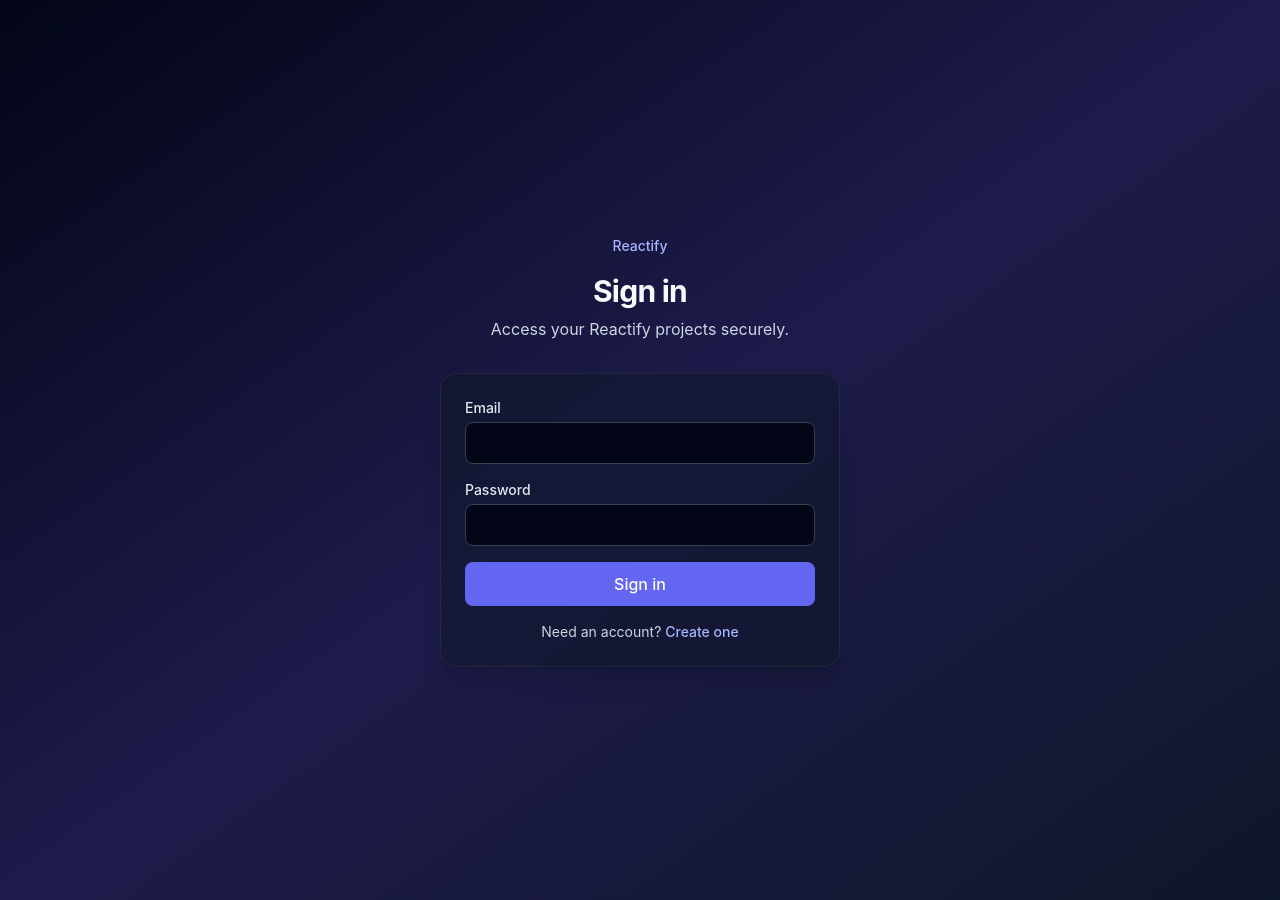
App sign-in redirect flow › does not let a stale unauthenticated session restore clear a completed sign-in
Expected: the heading "Sign in" is shown, [593,273,687,309]
Step 1. Type "user@example.com" into the field labelled "Email" → (640,443), box [465,422,815,464]
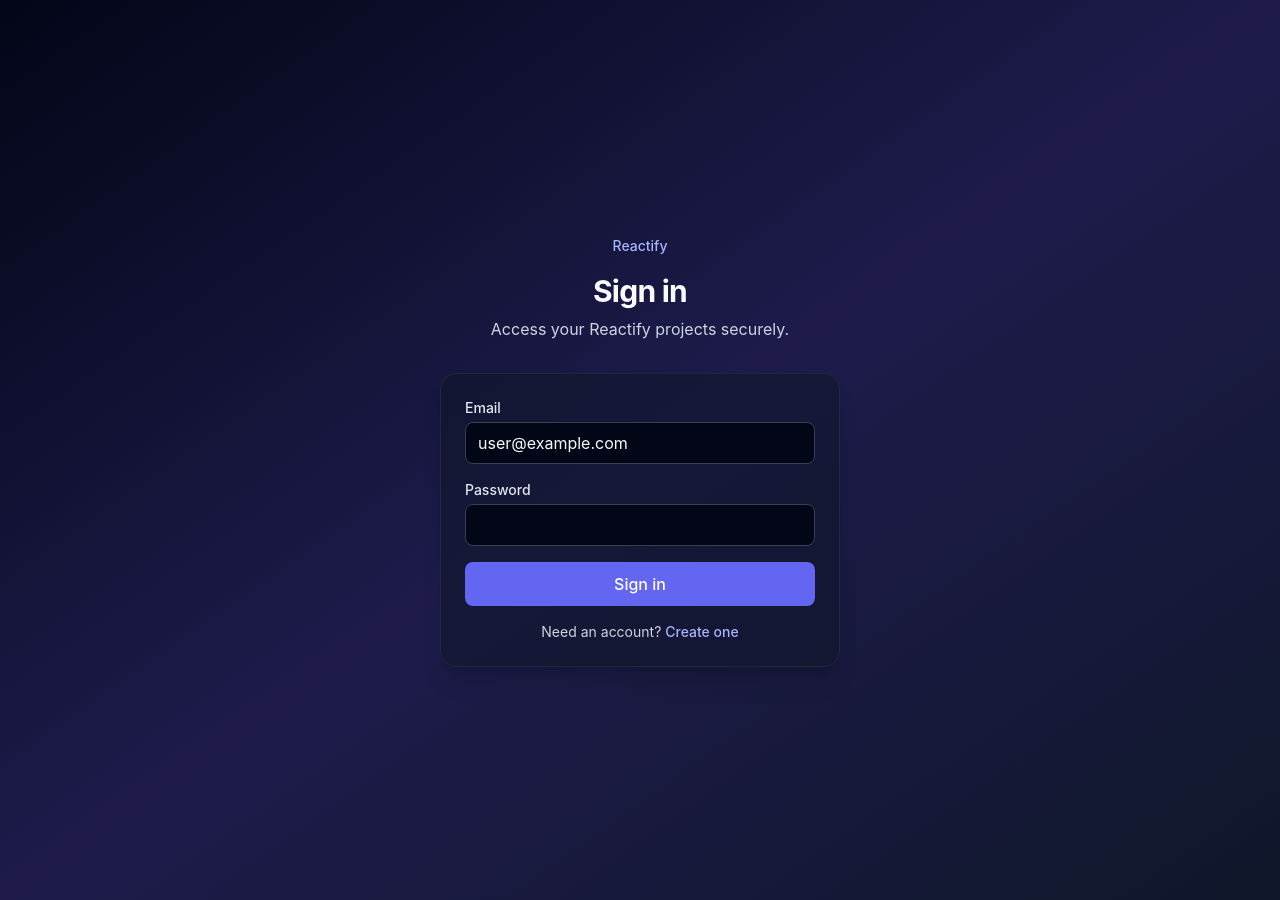
Step 2. Type "secure-password-123" into the password field labelled "Password" → (640,525), box [465,504,815,546]
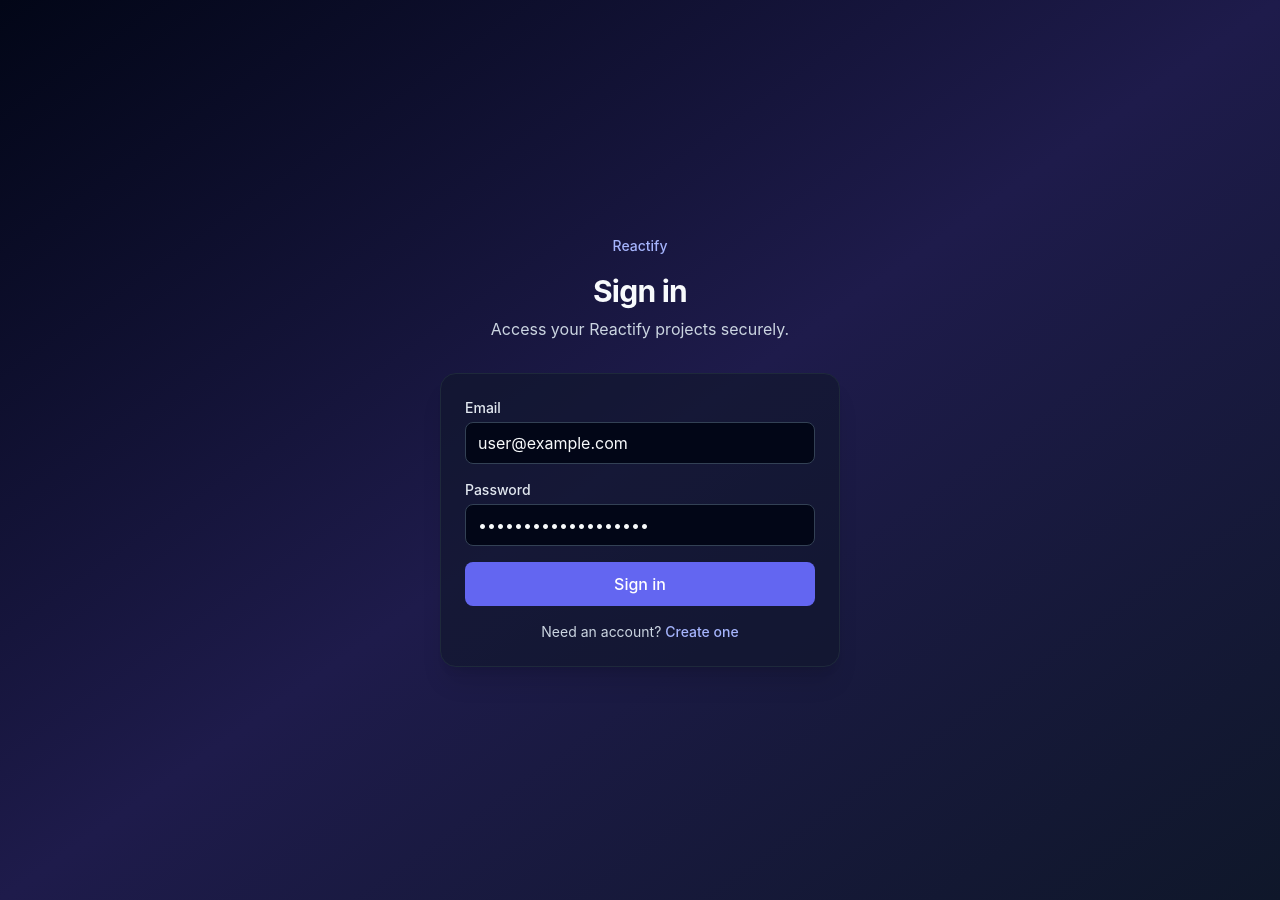
Step 3. Click the button "Sign in" → (640,584), box [465,562,815,606]
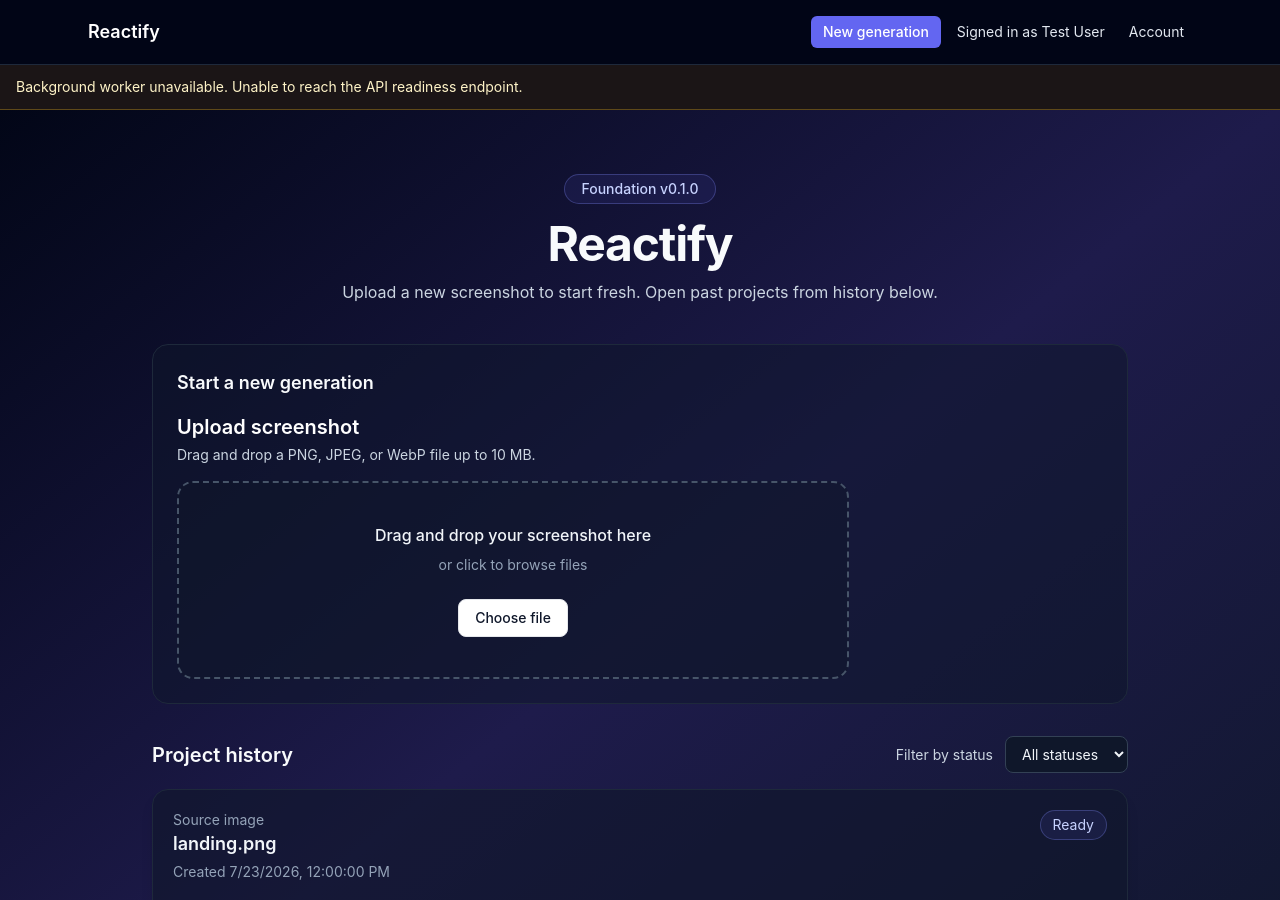
Expected: the heading "Project history" is shown, [152,740,293,768]
